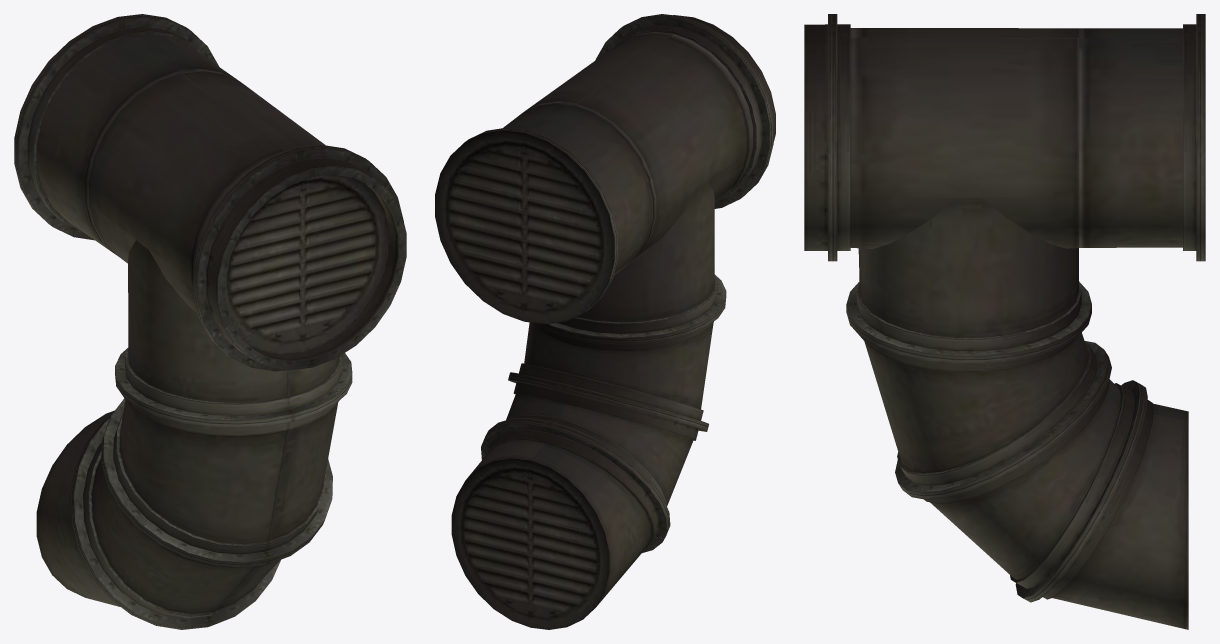
File: pipe_ceiling_end.glb
The picture shows the model from 3 angles, left to right: view 1: azimuth 30°, elevation 25°; view 2: azimuth 150°, elevation 25°; view 3: azimuth 270°, elevation 25°; orthographic projection. The views are drawn at different scales.
Parts seen in each view (by area): view 1: 0_pipe_ceiling01; view 2: 0_pipe_ceiling01; view 3: 0_pipe_ceiling01.
Part boxes in pixels (<box>): 0_pipe_ceiling01: <box>14,14,406,629</box>; 0_pipe_ceiling01: <box>435,14,775,629</box>; 0_pipe_ceiling01: <box>804,14,1205,629</box>.
Size of the model in its own units: 1.37 by 3.63 by 2.22.
Materials: 1 (1 with a texture image).
